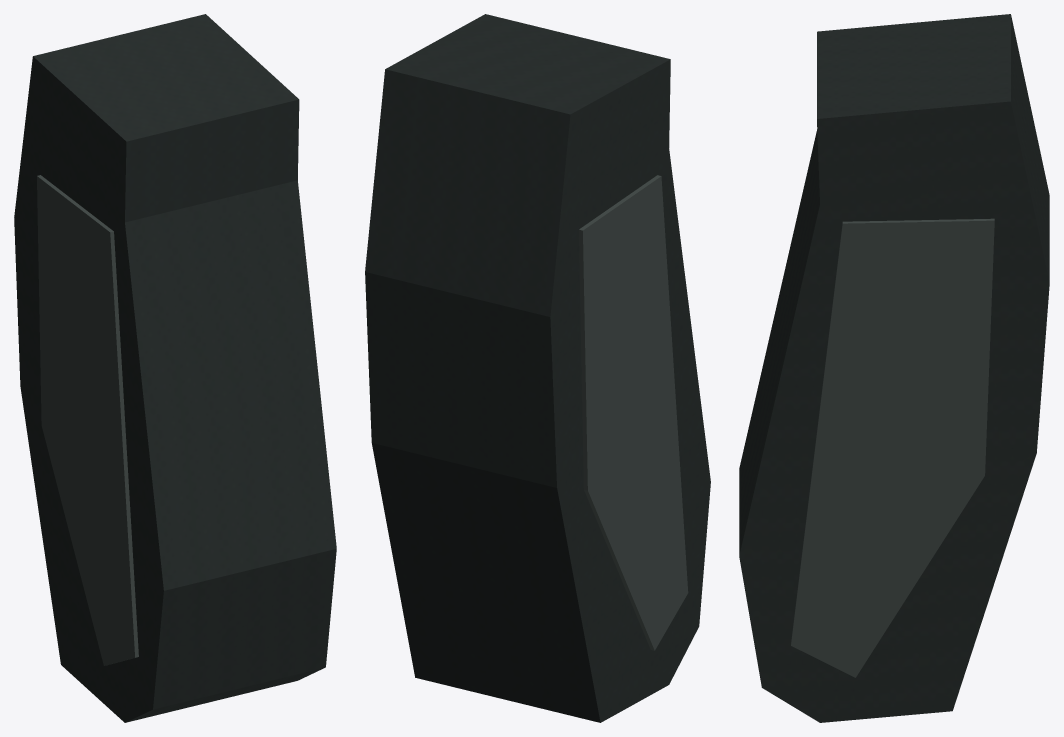
File: ar_grip.glb
The picture shows the model from 3 angles, left to right: view 1: azimuth 30°, elevation 25°; view 2: azimuth 150°, elevation 25°; view 3: azimuth 270°, elevation 25°; orthographic projection. The views are drawn at different scales.
Visible parts, largest first — view 1: ar_grip_item_profile, ar_grip_item_profile.001, ar_grip_molded_panel; view 2: ar_grip_item_profile.001, ar_grip_item_profile, ar_grip_molded_panel; view 3: ar_grip_item_profile, ar_grip_molded_panel, ar_grip_item_profile.001.
Part boxes in pixels (bbox=[...]): ar_grip_item_profile: bbox=[15, 28, 326, 713]; ar_grip_item_profile.001: bbox=[14, 14, 336, 722]; ar_grip_molded_panel: bbox=[37, 175, 138, 665]; ar_grip_item_profile.001: bbox=[365, 14, 710, 722]; ar_grip_item_profile: bbox=[372, 18, 707, 713]; ar_grip_molded_panel: bbox=[579, 175, 688, 650]; ar_grip_item_profile: bbox=[739, 19, 1049, 712]; ar_grip_molded_panel: bbox=[791, 218, 994, 677]; ar_grip_item_profile.001: bbox=[739, 14, 1049, 722].
Size of the model in its own units: 0.0668 by 0.212 by 0.096.
Materials: 2 (1 with a texture image).
